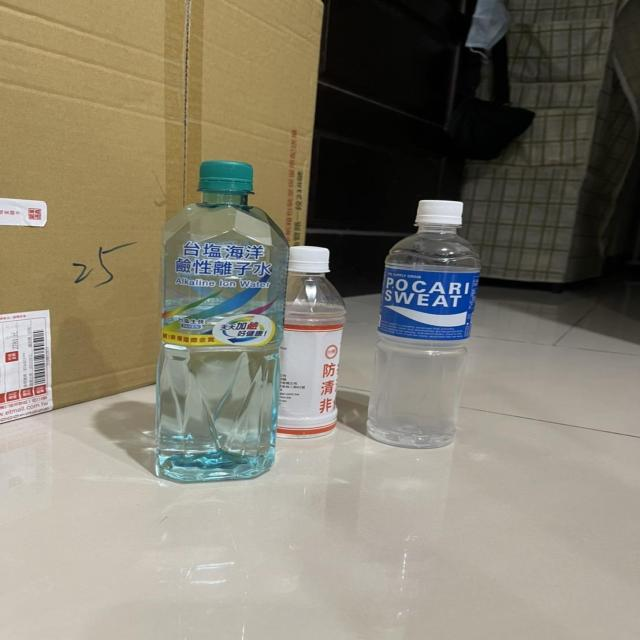plastic: (155, 161, 345, 482), (366, 200, 479, 449)
